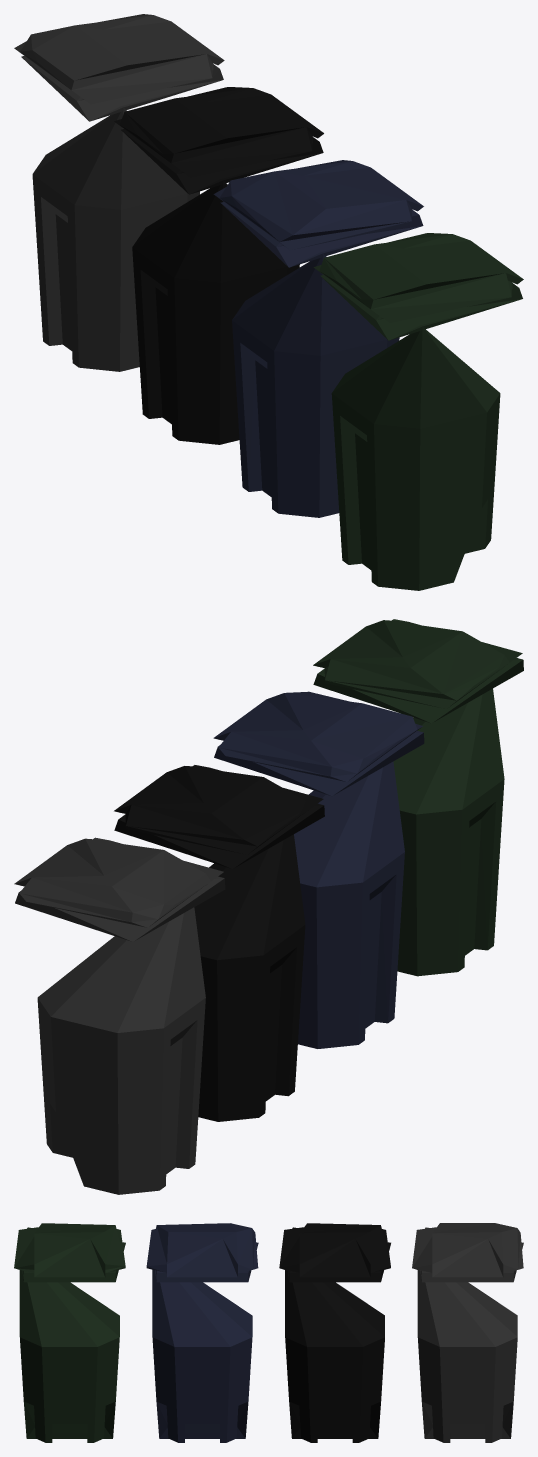
File: wheelie-bins.lod1.glb
The picture shows the model from 3 angles, top to bottom: view 1: azimuth 30°, elevation 25°; view 2: azimuth 150°, elevation 25°; view 3: azimuth 270°, elevation 25°; orthographic projection. The views are drawn at different scales.
Parts seen in each view (by area): view 1: TrashCan_Grey_TrashCan(Grey)_0; view 2: TrashCan_Grey_TrashCan(Grey)_0; view 3: TrashCan_Grey_TrashCan(Grey)_0.
Boxes of the visible parts, x1=… form: TrashCan_Grey_TrashCan(Grey)_0: x1=14, y1=14, x2=523, y2=590; TrashCan_Grey_TrashCan(Grey)_0: x1=14, y1=619, x2=523, y2=1194; TrashCan_Grey_TrashCan(Grey)_0: x1=14, y1=1223, x2=523, y2=1442.
Bounding box in the file's own units: 0.7785 × 1.46 × 3.38.
